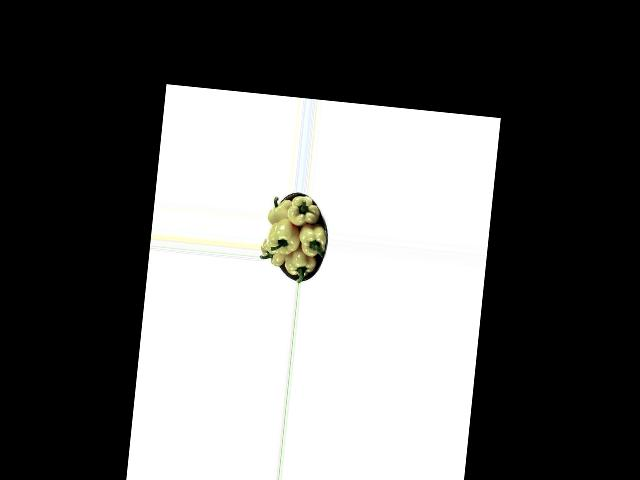bell_pepper: (259, 238, 289, 270)
